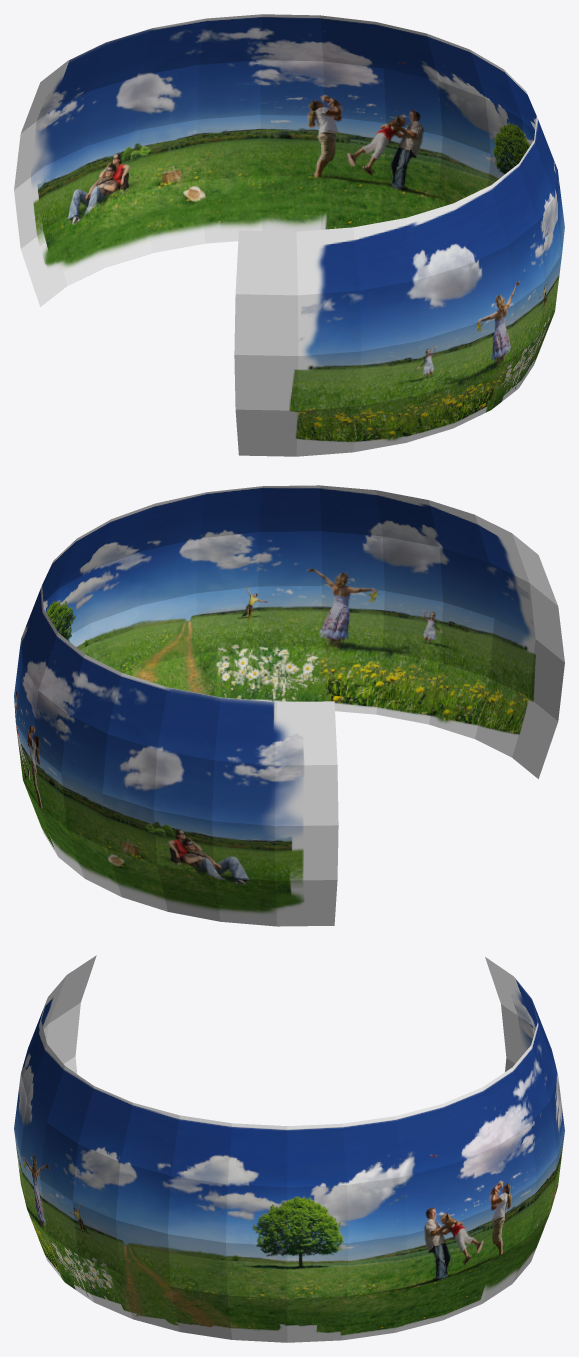
The model's file is Panorama_1_with_FG_v05.dae.
3 views of the same model, one above another, from view 1: azimuth 30°, elevation 25°; view 2: azimuth 150°, elevation 25°; view 3: azimuth 270°, elevation 25° (orthographic). The views are drawn at different scales.
Visible parts, largest first — view 1: ID23_001; view 2: ID23_001; view 3: ID23_001.
Part boxes in pixels (box(x1,y1,x2,y2)): ID23_001: box(14, 14, 564, 456); ID23_001: box(14, 485, 564, 926); ID23_001: box(14, 955, 564, 1342).
Size of the model in its own units: 4191 by 5142 by 2231.
Materials: 1 (1 with a texture image).
